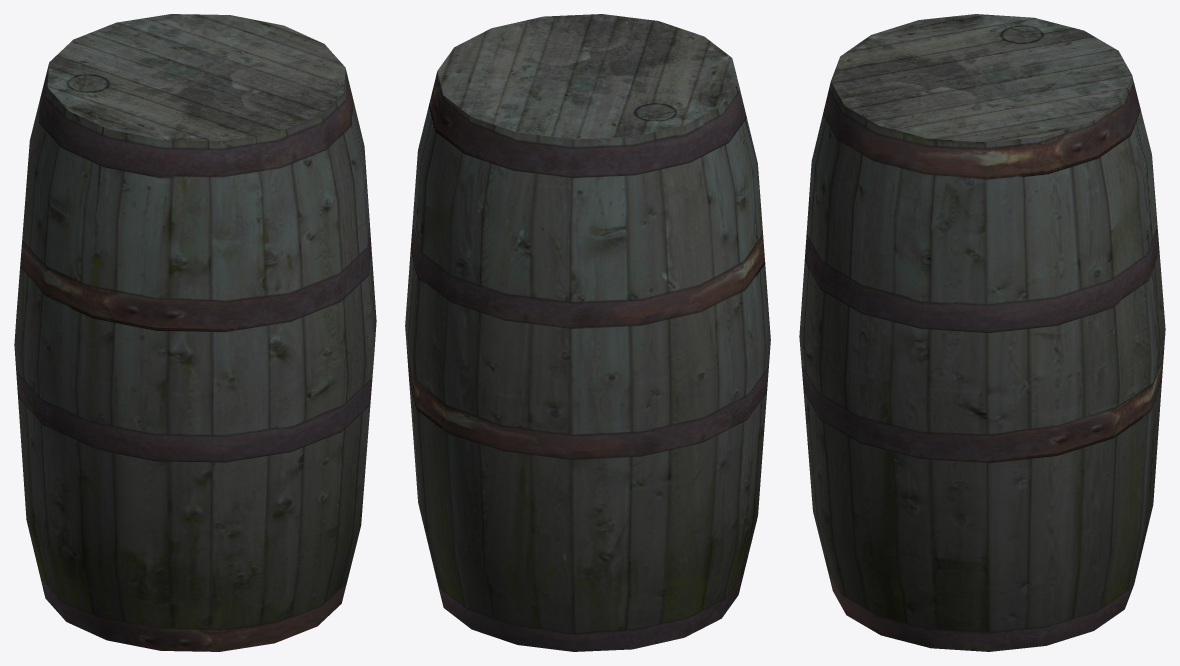
File: Barrel_LOD02.fbx
3 views of the same model, side by side, from view 1: azimuth 30°, elevation 25°; view 2: azimuth 150°, elevation 25°; view 3: azimuth 270°, elevation 25° (orthographic).
Visible parts, largest first — view 1: Mesh Object; view 2: Mesh Object; view 3: Mesh Object.
Part boxes in pixels (x1=…): Mesh Object: x1=14, y1=14, x2=376, y2=651; Mesh Object: x1=405, y1=14, x2=770, y2=651; Mesh Object: x1=799, y1=14, x2=1165, y2=651.
Size of the model in its own units: 0.7084 by 1.09 by 0.7084.
